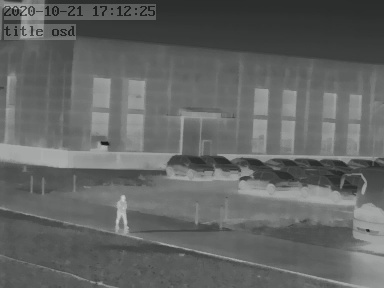person: (114, 193, 128, 231)
vehicle: (303, 172, 356, 200), (238, 172, 303, 194), (164, 153, 213, 179), (204, 153, 243, 177), (232, 154, 270, 172), (345, 156, 379, 172), (262, 155, 296, 170), (318, 156, 348, 170), (296, 155, 324, 169)
